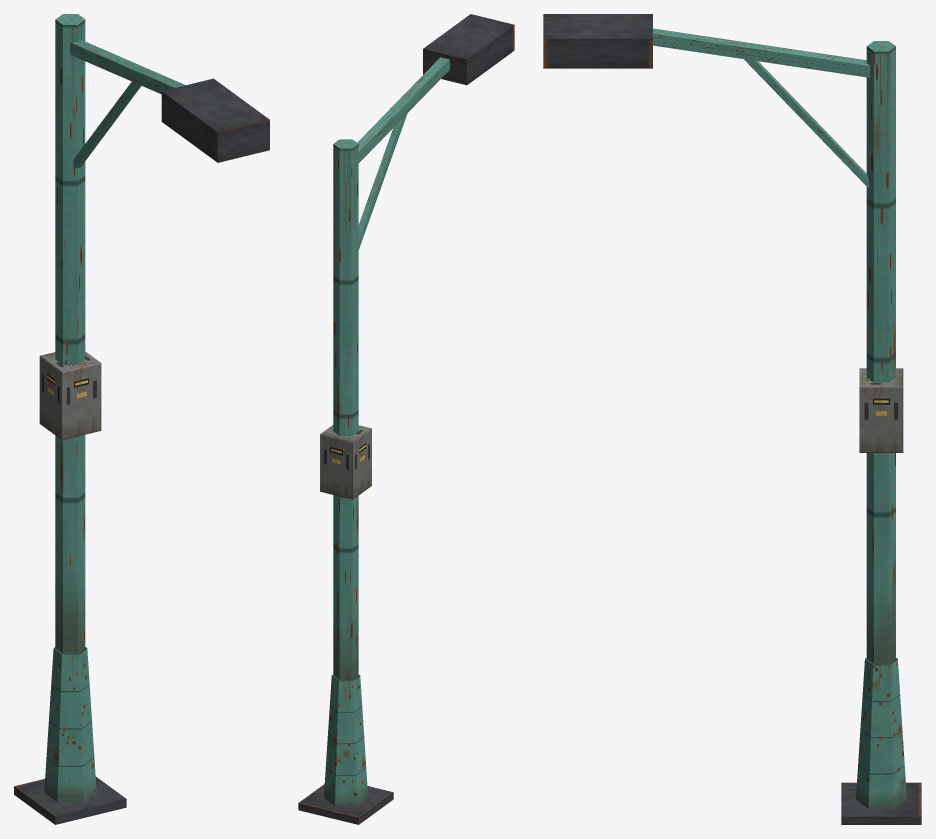
Rendered from StreetLamp.fbx.
The picture shows the model from 3 angles, left to right: view 1: azimuth 30°, elevation 25°; view 2: azimuth 150°, elevation 25°; view 3: azimuth 270°, elevation 25°; orthographic projection. The views are drawn at different scales.
Parts seen in each view (by area): view 1: StreetLamp; view 2: StreetLamp; view 3: StreetLamp.
Boxes of the visible parts, x1,y1,x2,y2 form: StreetLamp: (14,14,269,824); StreetLamp: (298,14,514,824); StreetLamp: (543,14,921,824).
Bounding box in the file's own units: 0.44 × 4.72 × 2.07.
